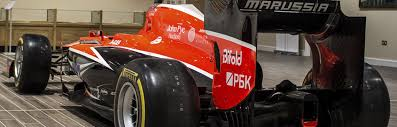f1_car: (1, 1, 393, 127)
